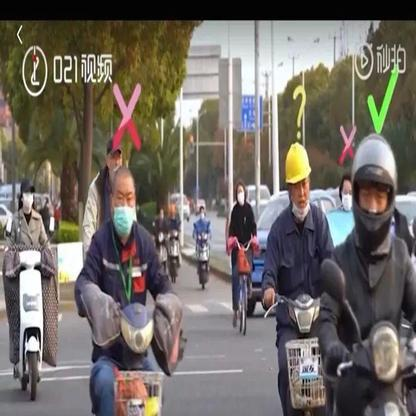target: (77, 166, 185, 411), (3, 179, 59, 402)
